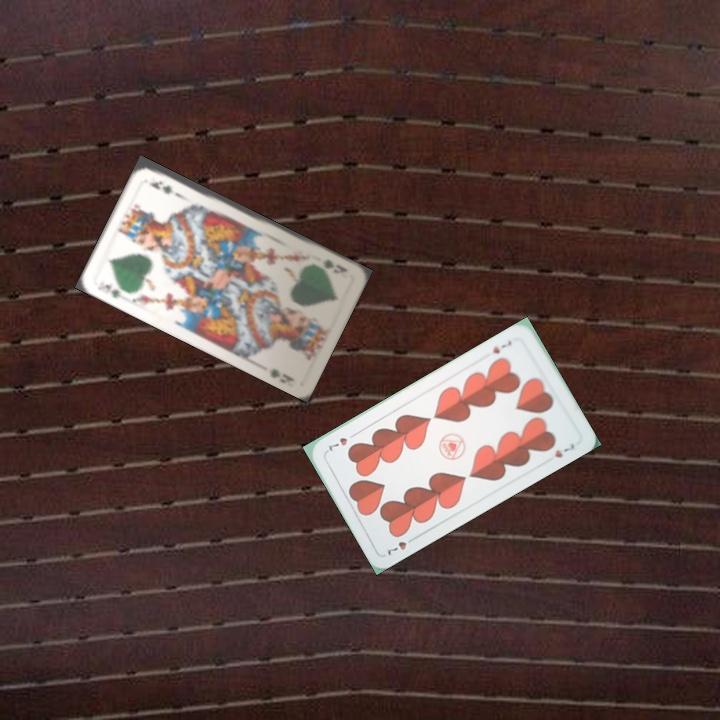GK: (318, 255, 350, 277), (93, 277, 123, 300)
H7: (381, 533, 419, 558), (489, 336, 514, 356)
